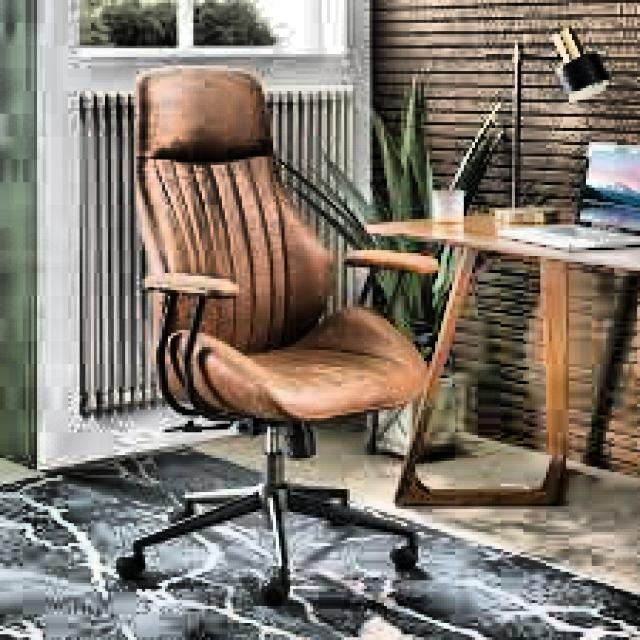cadeira: (114, 65, 423, 608)
